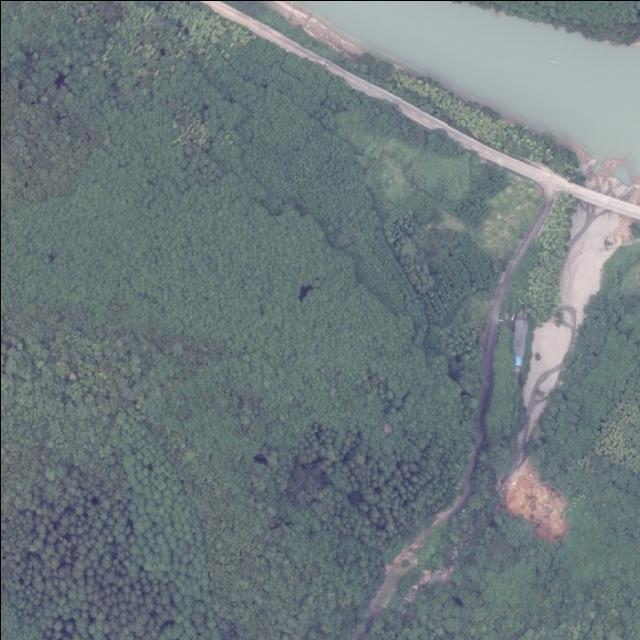landslide: (350, 186, 558, 640), (505, 458, 569, 543)
